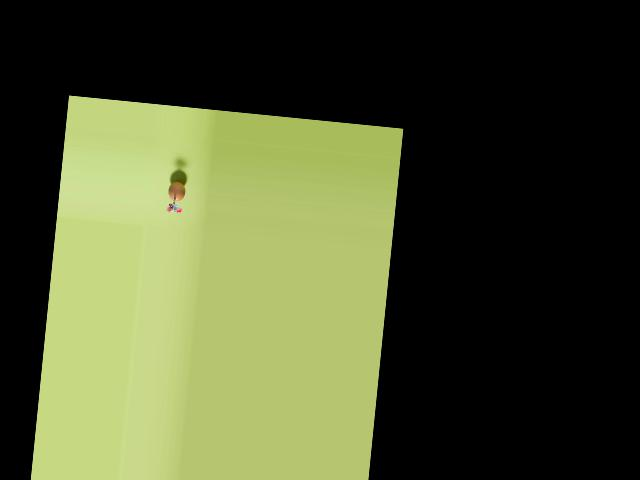egg: (167, 180, 185, 202)
